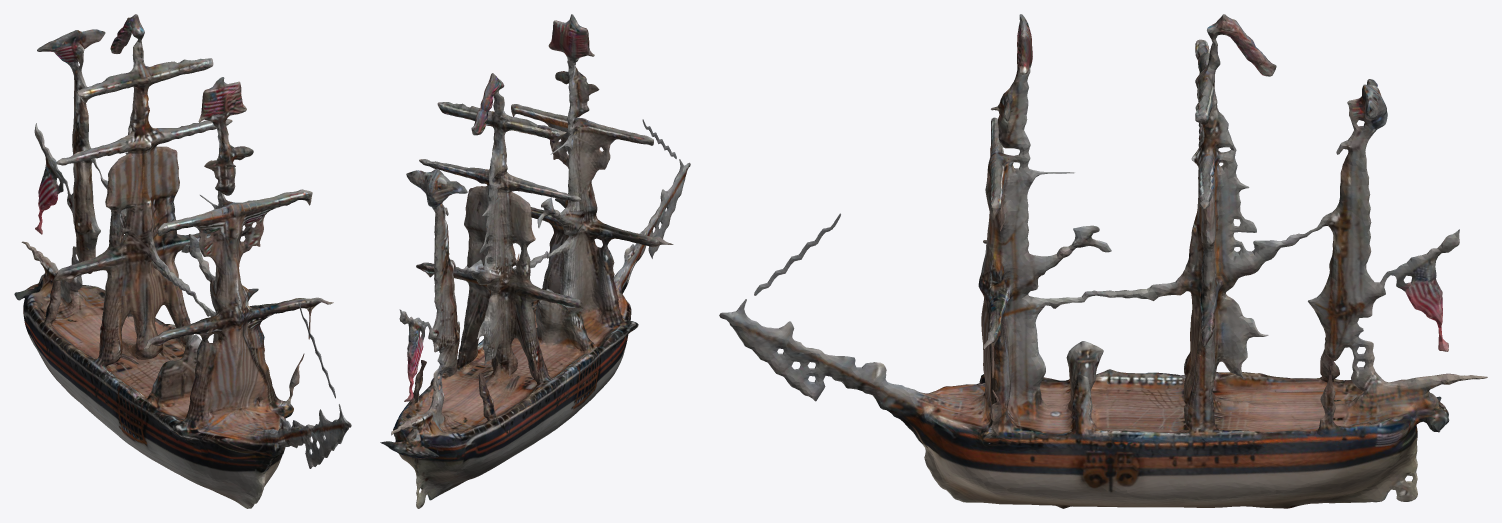
The model's file is Savannah II - a_detailed_realistic_model_of_a_th_century_sailing_ship_with_three_tall_masts_rigging_and_multi.glb.
3 renders of one model, left to right at view 1: azimuth 30°, elevation 25°; view 2: azimuth 150°, elevation 25°; view 3: azimuth 270°, elevation 25°, orthographic. The views are drawn at different scales.
Visible parts, largest first — view 1: geometry_0; view 2: geometry_0; view 3: geometry_0.
Boxes of the visible parts, x1,y1,x2,y2 form: geometry_0: (14,14,351,508); geometry_0: (380,14,690,508); geometry_0: (719,14,1487,508).
Size of the model in its own units: 0.3091 by 0.6509 by 0.9174.
1 material, 1 textured.
